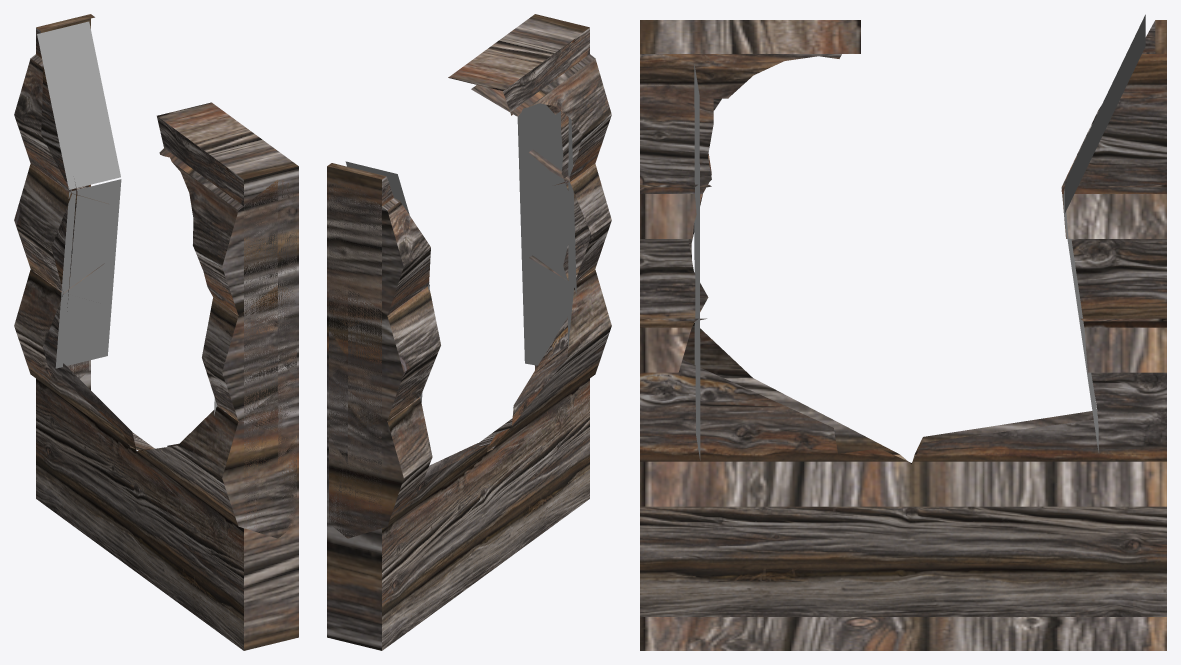
Rendered from Holewall_Left_001.fbx.
3 renders of one model, left to right at view 1: azimuth 30°, elevation 25°; view 2: azimuth 150°, elevation 25°; view 3: azimuth 270°, elevation 25°, orthographic. The views are drawn at different scales.
Parts seen in each view (by area): view 1: Holewall_Left_001; view 2: Holewall_Left_001; view 3: Holewall_Left_001.
Part boxes in pixels (<box>): Holewall_Left_001: <box>14,14,298,650</box>; Holewall_Left_001: <box>327,14,611,650</box>; Holewall_Left_001: <box>640,14,1166,650</box>.
Size of the model in its own units: 42.61 by 251 by 200.
